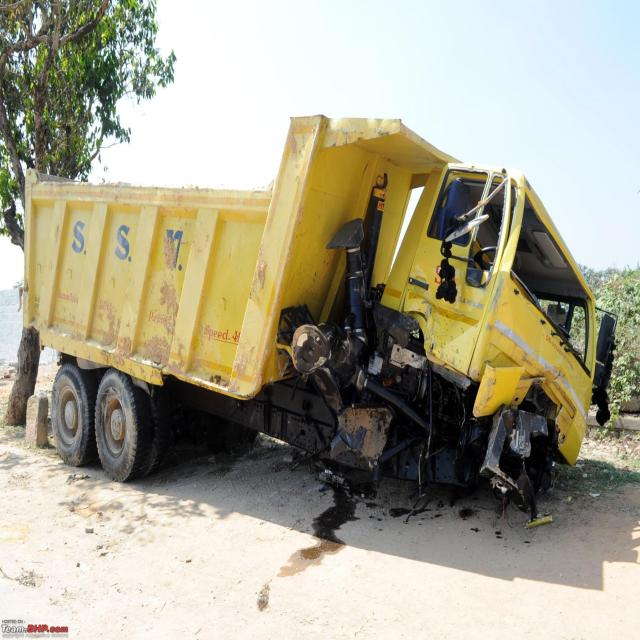accident: (24, 116, 615, 515)
